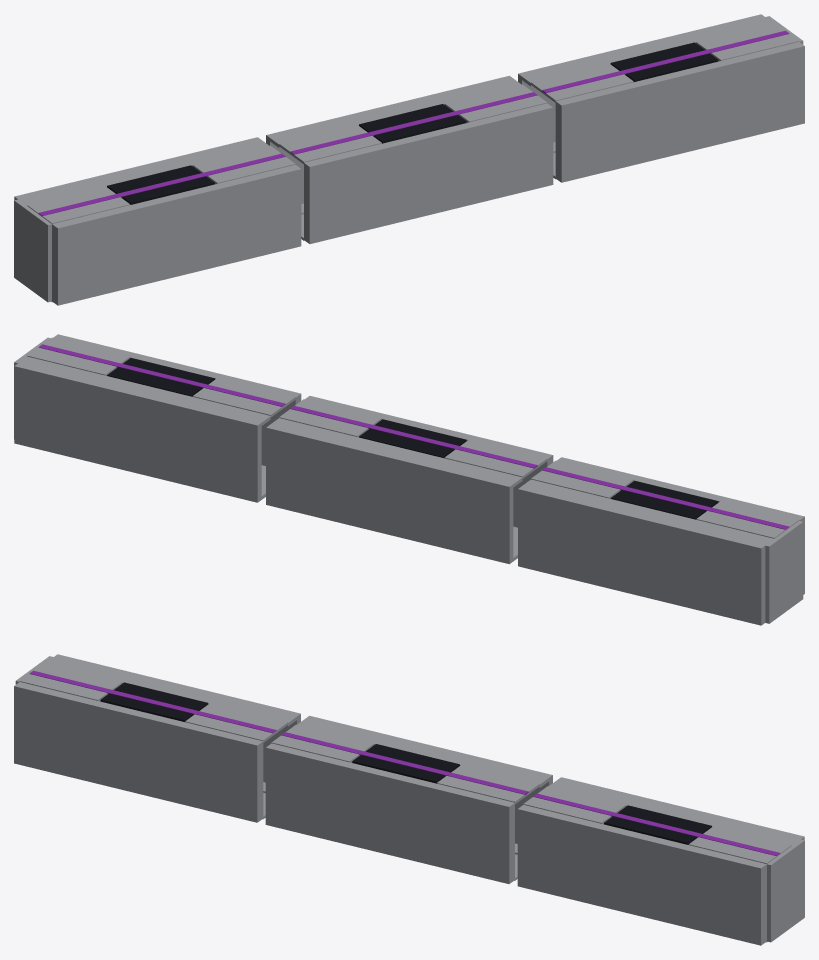
The model's file is metro_train_lilac_closed.obj.
3 renders of one model, top to bottom at view 1: azimuth 30°, elevation 25°; view 2: azimuth 150°, elevation 25°; view 3: azimuth 330°, elevation 25°, orthographic.
Visible parts, largest first — view 1: metro_train_lilac_closed; view 2: metro_train_lilac_closed; view 3: metro_train_lilac_closed.
Part boxes in pixels (x1,y1,x2,y2): metro_train_lilac_closed: (14,14,804,305); metro_train_lilac_closed: (14,334,804,625); metro_train_lilac_closed: (14,654,804,945).
Bounding box in the file's own units: 9 × 0.91 × 0.9.
